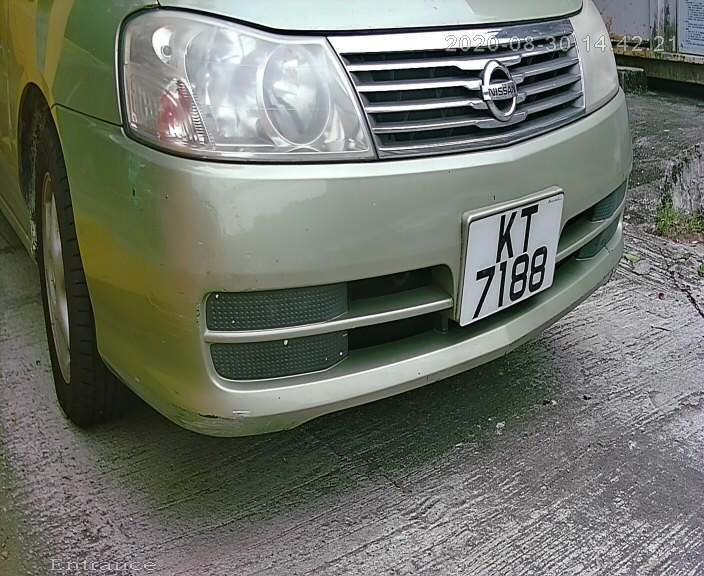License Plate: (459, 186, 560, 335)
